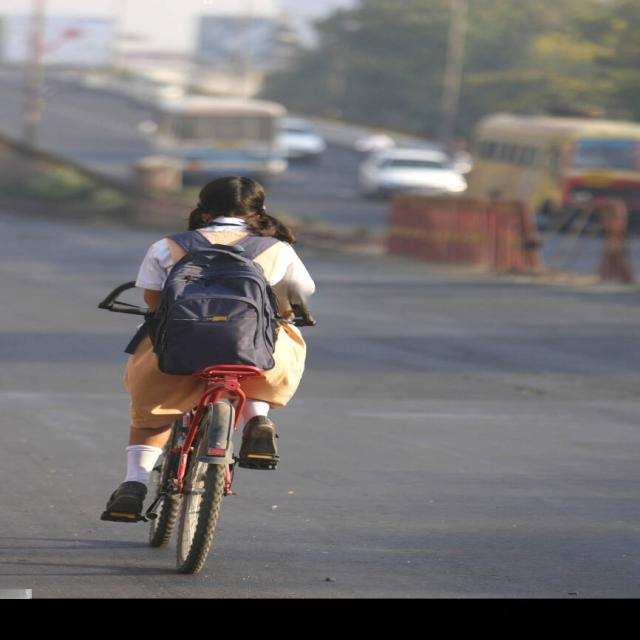bicycle: (98, 176, 315, 573)
